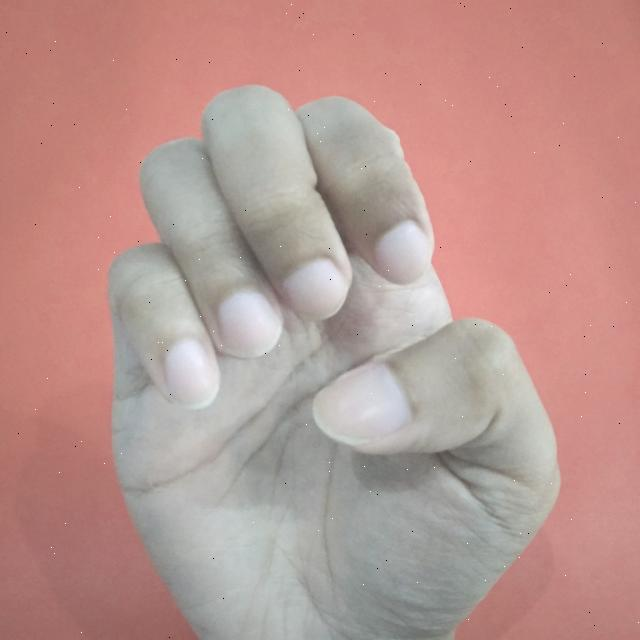E: (104, 80, 570, 640)
